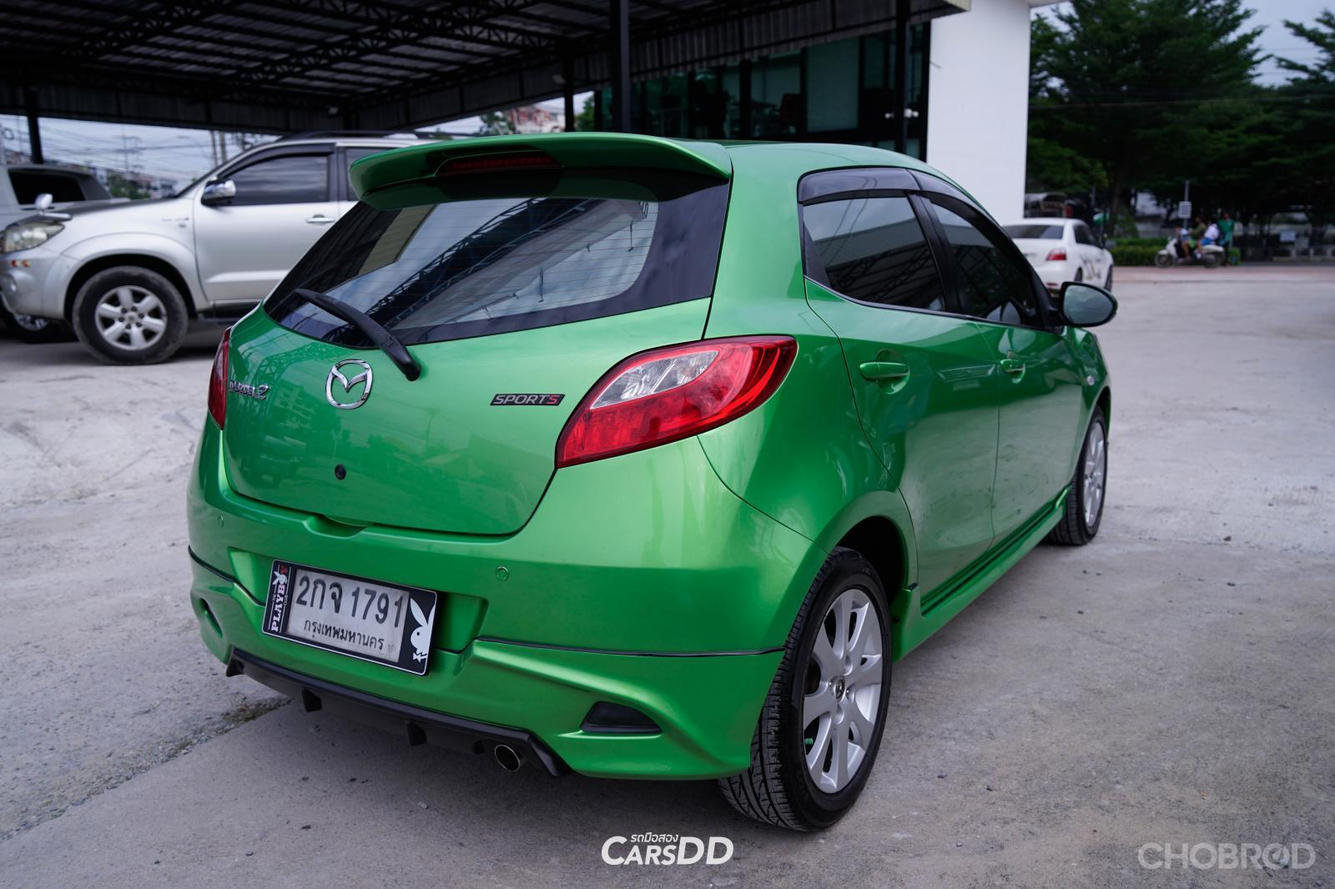license-plate: (253, 559, 452, 680)
